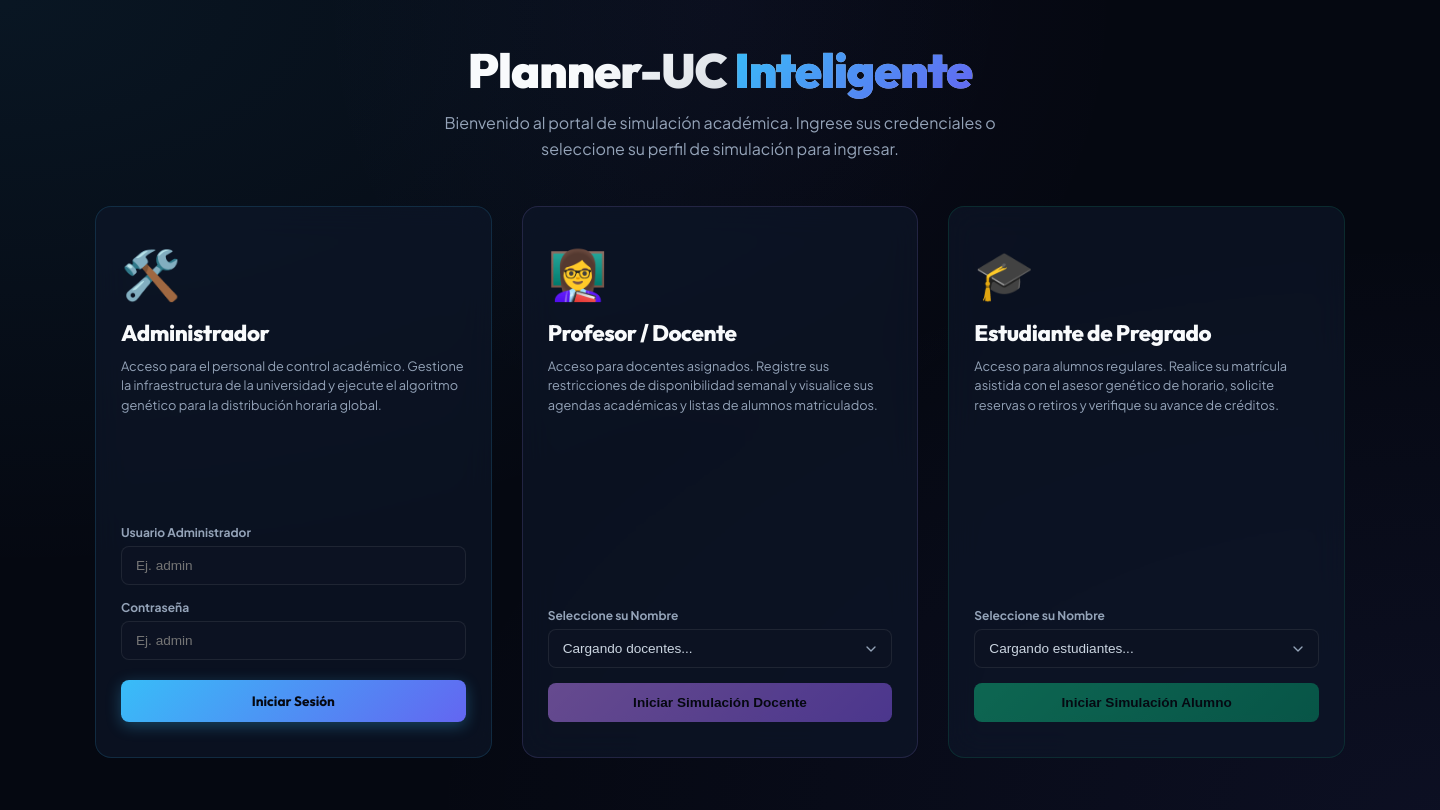
LoginPortal Component › shows error message on invalid admin login
Type "wrong_user" into the field with test id "admin-user-input" at (293,566), box [121, 546, 466, 585]
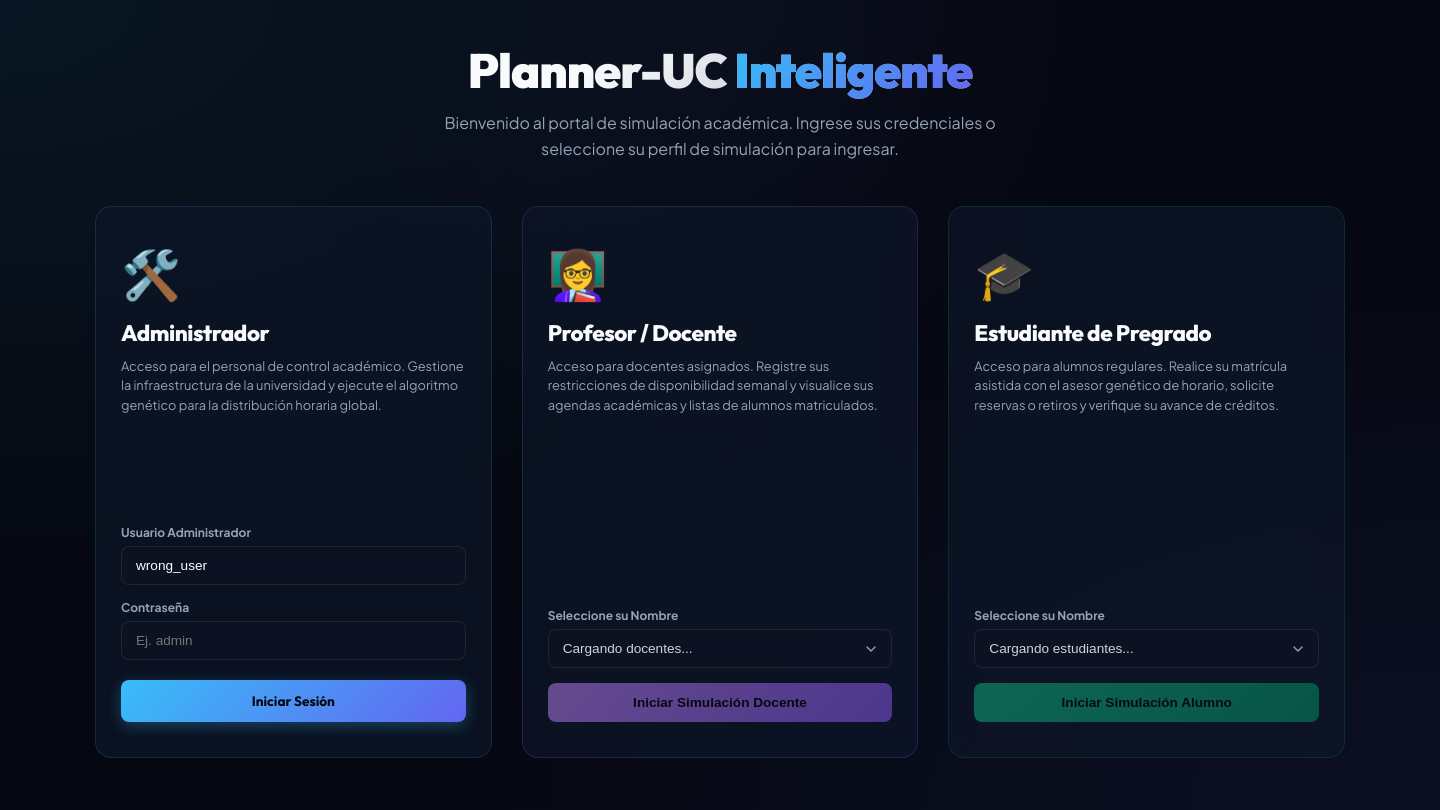
Type "wrong_pass" into the password field with test id "admin-pass-input" at (293,641), box [121, 621, 466, 660]
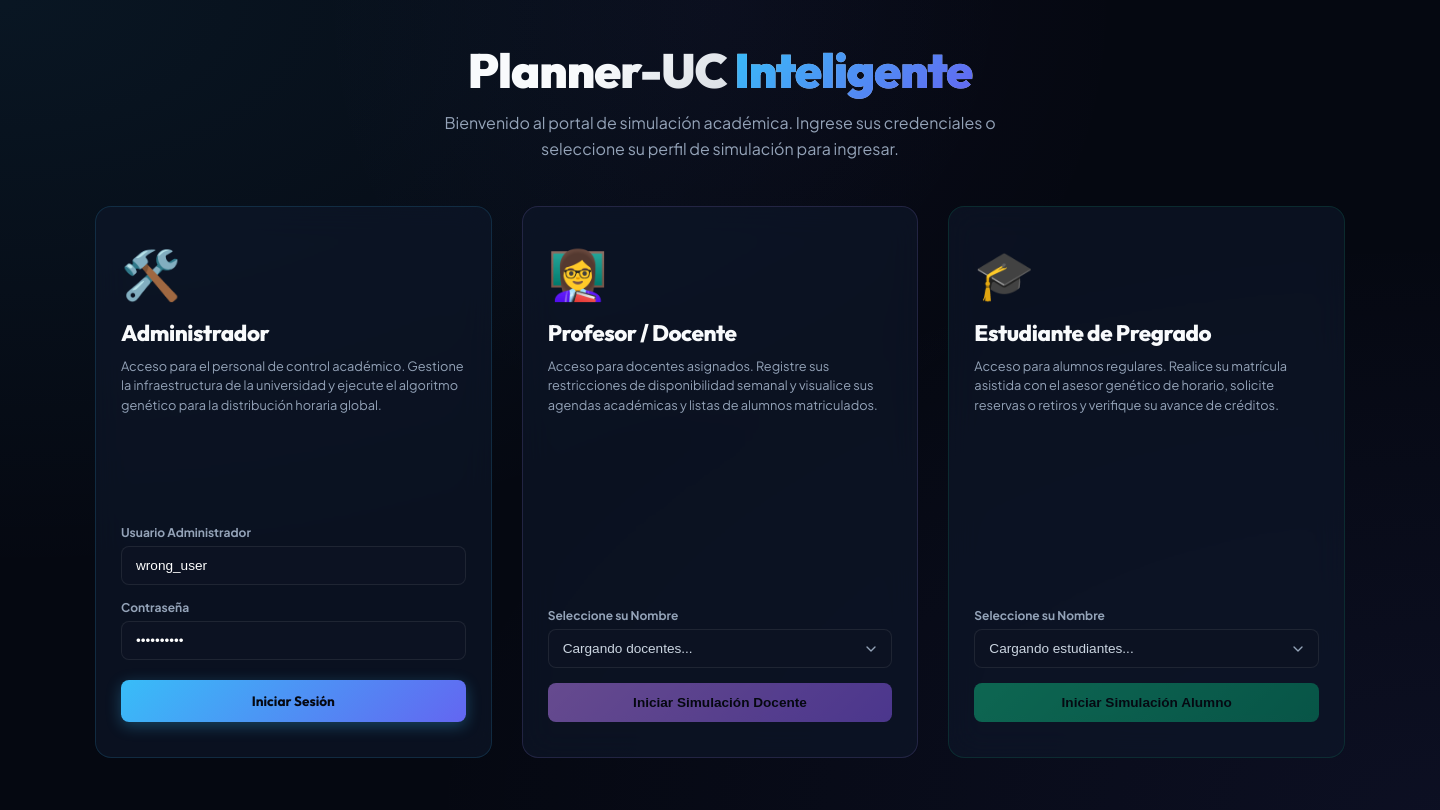
Click the button with test id "admin-login-button" at (293,701), box [121, 680, 466, 722]
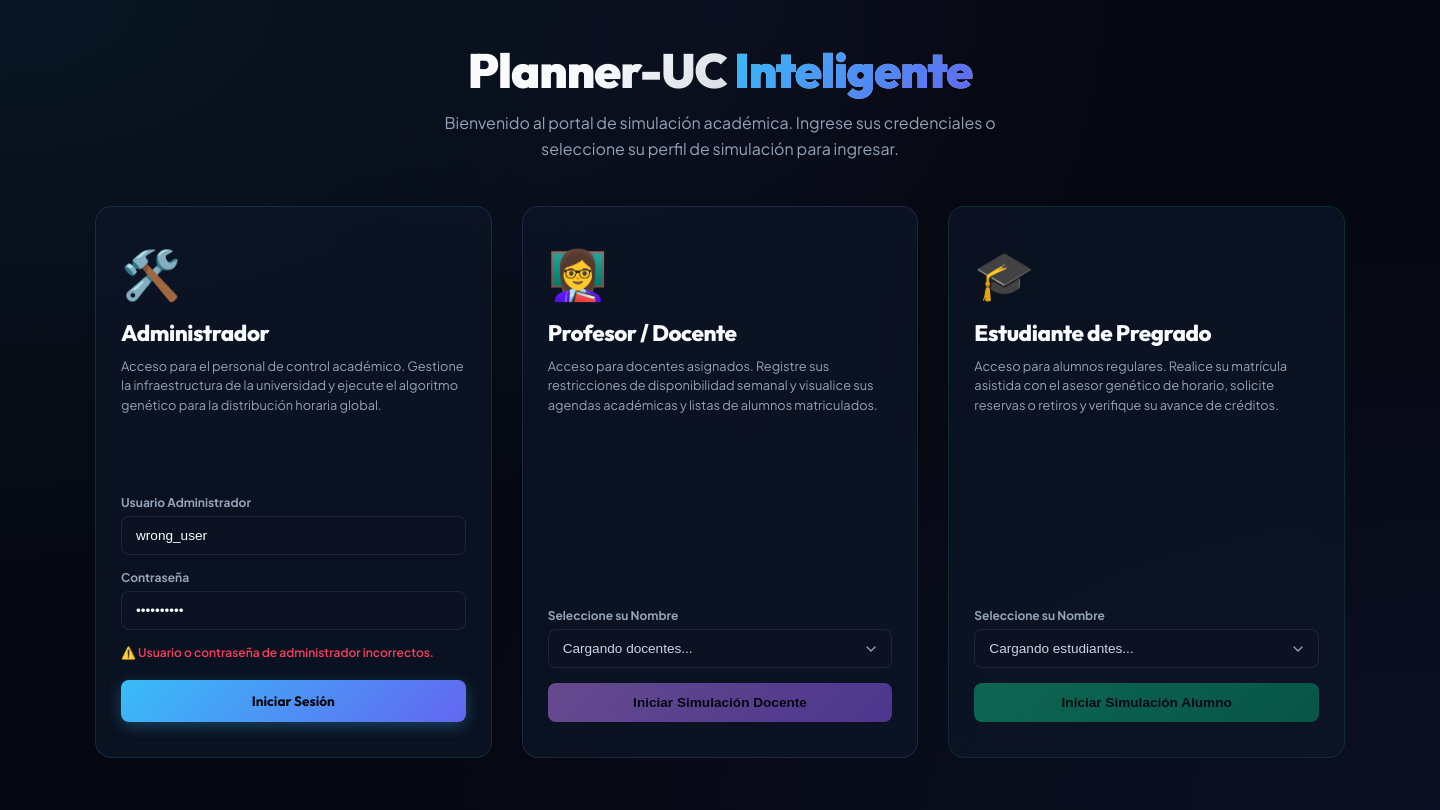
Now the text "⚠️ Usuario o contraseña de administrador incorrectos." is shown, box [121, 645, 466, 660]
